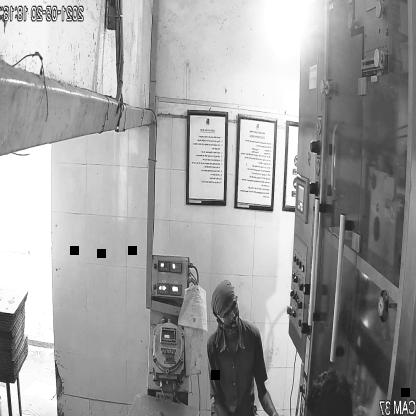goggles: (220, 298, 240, 326)
